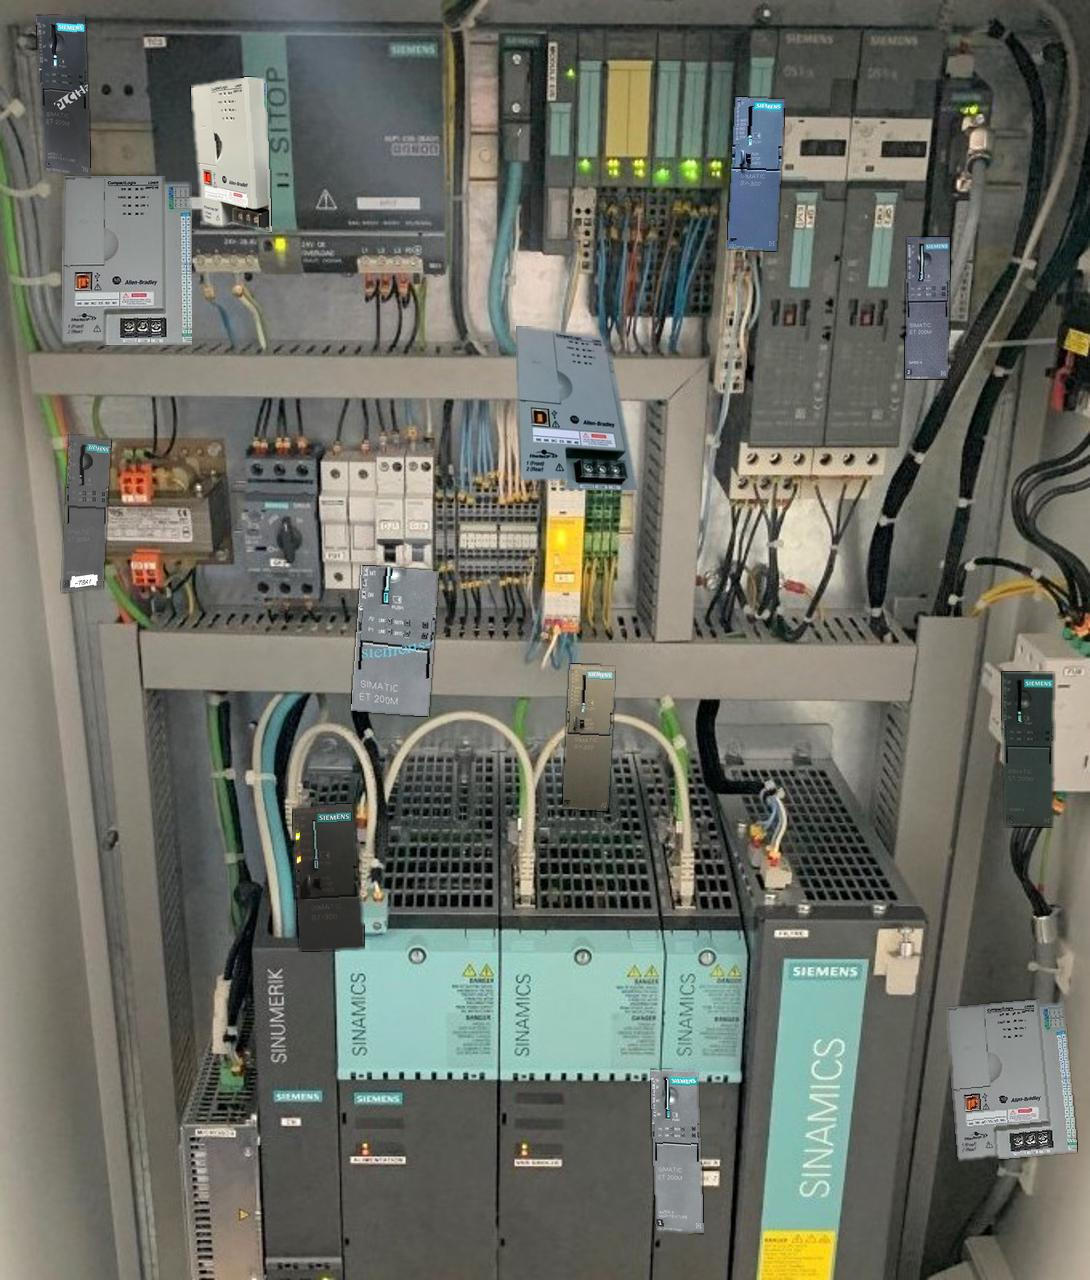AllenBradley: (62, 176, 191, 344), (948, 999, 1076, 1159), (516, 326, 636, 489), (191, 77, 271, 231)
Siemens: (292, 804, 364, 951), (727, 97, 784, 250), (562, 664, 614, 810)
